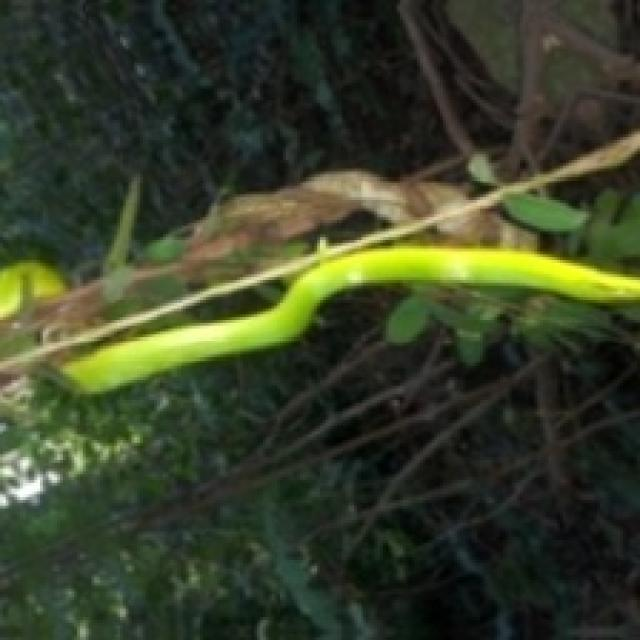red-tailed green ratsnake: (60, 246, 637, 391)
